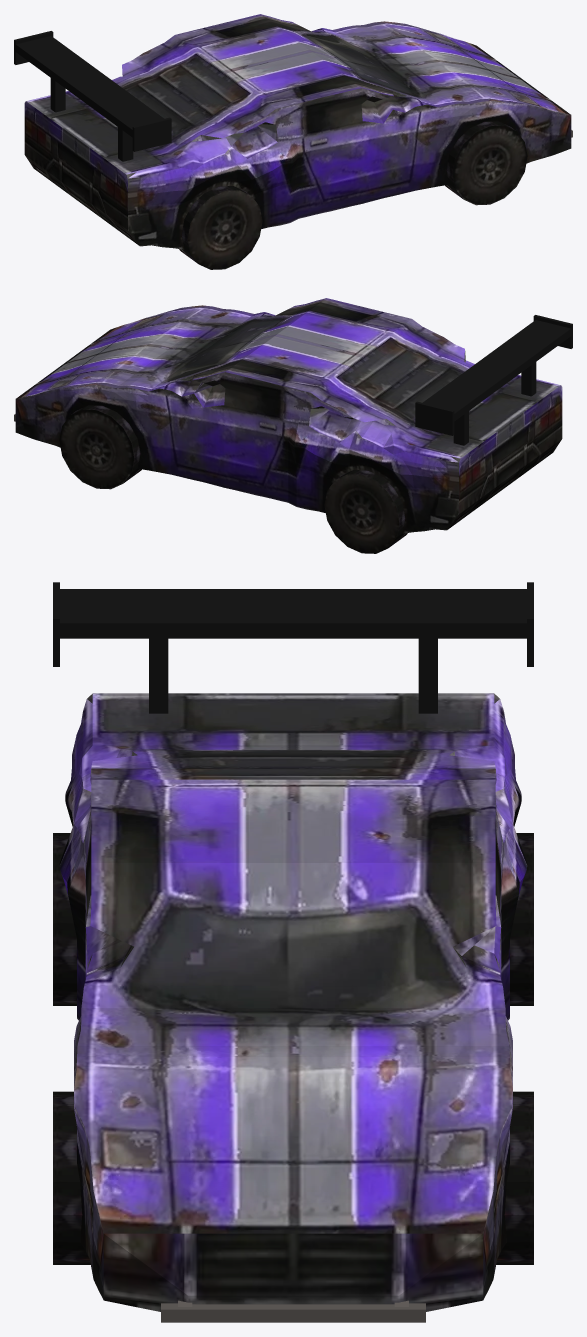
File: viper.glb
3 views of the same model, one above another, from view 1: azimuth 30°, elevation 25°; view 2: azimuth 150°, elevation 25°; view 3: azimuth 270°, elevation 25° (orthographic). The views are drawn at different scales.
Visible parts, largest first — view 1: viper; view 2: viper; view 3: viper.
Boxes of the visible parts, x1,y1,x2,y2 form: viper: [14, 14, 572, 269]; viper: [14, 298, 572, 553]; viper: [53, 582, 533, 1322].
Bounding box in the file's own units: 4.47 × 1.5 × 2.
1 material, 1 textured.
